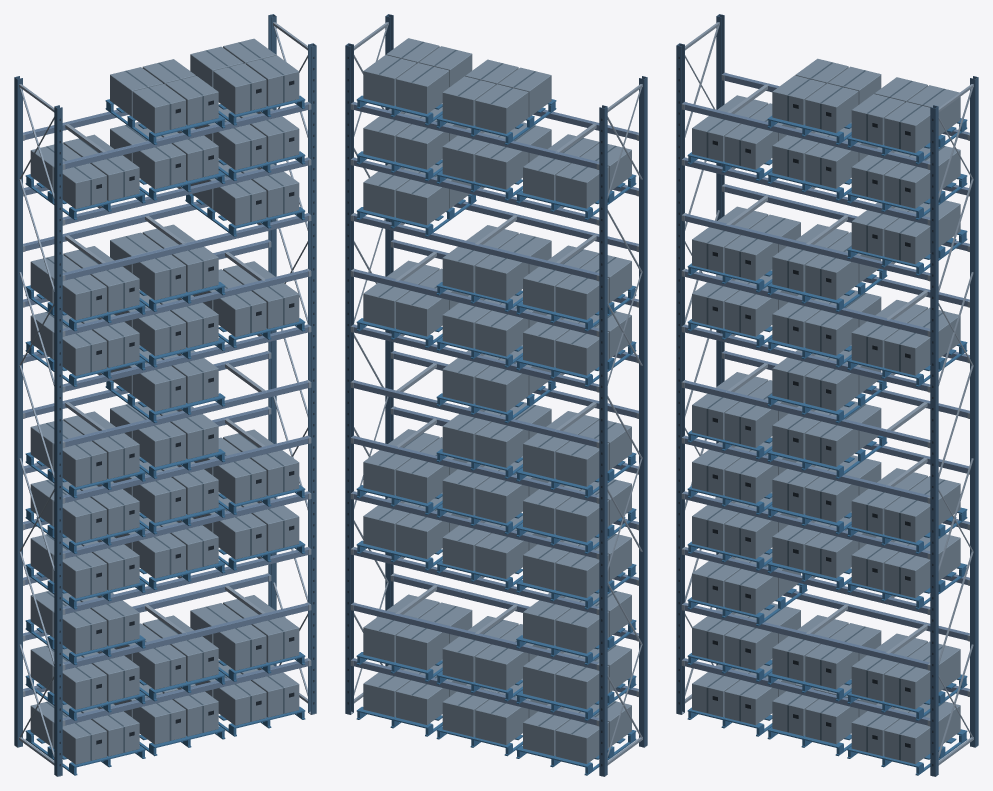
File: SM_GHS_V2Rack_B_W37138_Occ70.fbx
3 views of the same model, side by side, from view 1: azimuth 30°, elevation 25°; view 2: azimuth 150°, elevation 25°; view 3: azimuth 330°, elevation 25° (orthographic).
Parts seen in each view (by area): view 1: SM_GHS_V2Rack_B_W37138_Occ70; view 2: SM_GHS_V2Rack_B_W37138_Occ70; view 3: SM_GHS_V2Rack_B_W37138_Occ70.
Boxes of the visible parts, bbox=[...] form: SM_GHS_V2Rack_B_W37138_Occ70: bbox=[14, 14, 316, 776]; SM_GHS_V2Rack_B_W37138_Occ70: bbox=[345, 14, 647, 776]; SM_GHS_V2Rack_B_W37138_Occ70: bbox=[676, 14, 978, 776].
Bounding box in the file's own units: 371 × 122 × 915.
